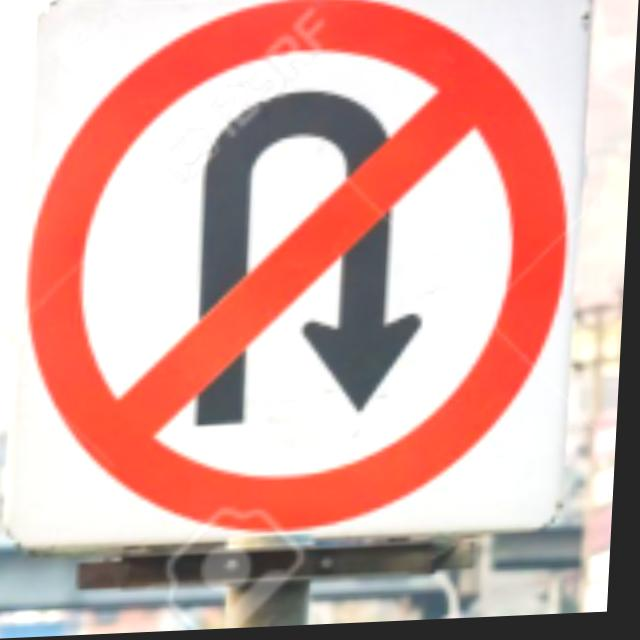not_u_turn_right: (29, 0, 582, 545)
